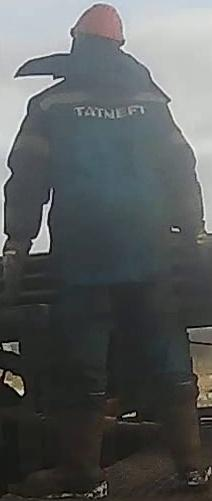gloves: (0, 230, 36, 294)
helmet: (68, 1, 126, 46)
vest: (14, 74, 186, 293)
